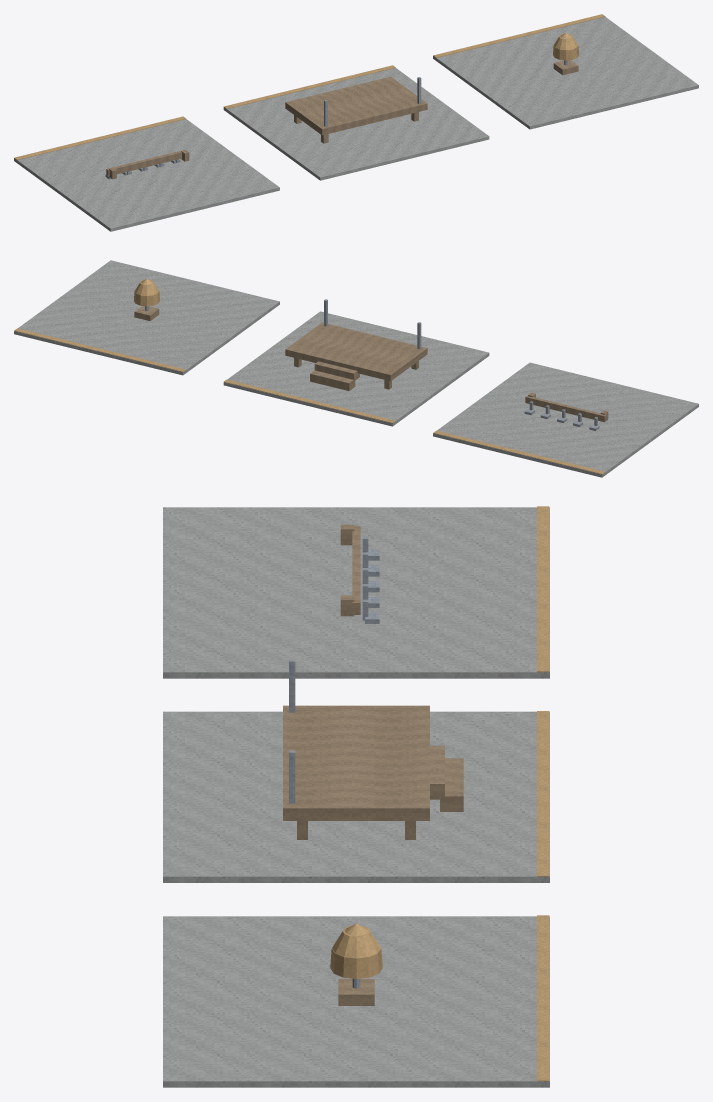
The model's file is level_blockout_kit_academy_p05.glb.
3 renders of one model, top to bottom at view 1: azimuth 30°, elevation 25°; view 2: azimuth 150°, elevation 25°; view 3: azimuth 270°, elevation 25°, orthographic. The views are drawn at different scales.
Parts seen in each view (by area): view 1: level_blockout_kit_academy_p05; view 2: level_blockout_kit_academy_p05; view 3: level_blockout_kit_academy_p05.
Part boxes in pixels (x1,y1,x2,y2): level_blockout_kit_academy_p05: [14, 14, 698, 231]; level_blockout_kit_academy_p05: [14, 260, 698, 477]; level_blockout_kit_academy_p05: [163, 506, 549, 1087].
Bounding box in the file's own units: 19.65 × 1.51 × 5.6.
Materials: 4 (4 with a texture image).
